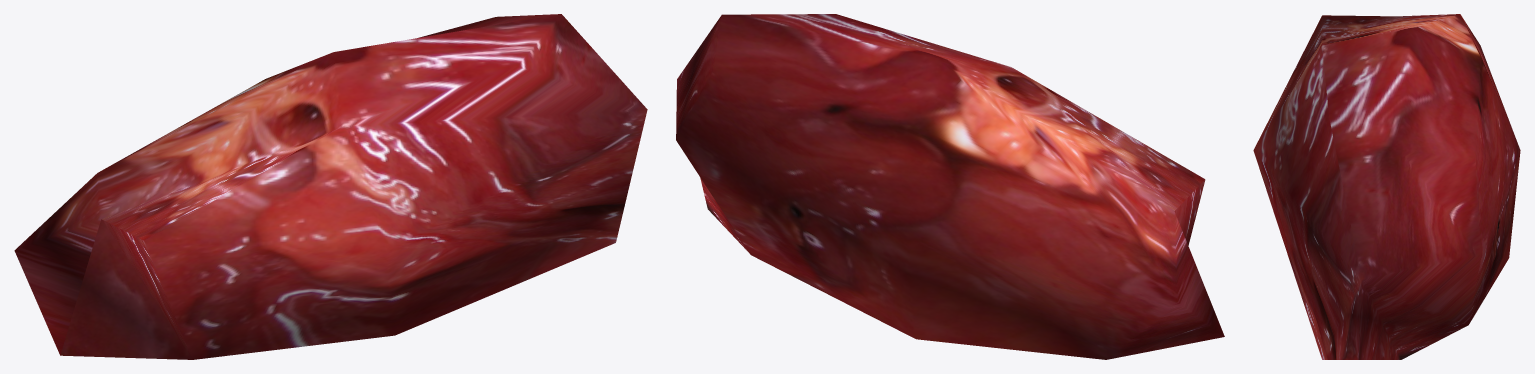
Rendered from gib_02.fbx.
3 views of the same model, side by side, from view 1: azimuth 30°, elevation 25°; view 2: azimuth 150°, elevation 25°; view 3: azimuth 270°, elevation 25° (orthographic). The views are drawn at different scales.
Parts seen in each view (by area): view 1: meaty_gib4; view 2: meaty_gib4; view 3: meaty_gib4.
Part boxes in pixels (x1,y1,x2,y2): meaty_gib4: (14, 14, 647, 359); meaty_gib4: (676, 14, 1224, 359); meaty_gib4: (1253, 14, 1520, 359).
Bounding box in the file's own units: 0.2271 × 0.102 × 0.0919.
